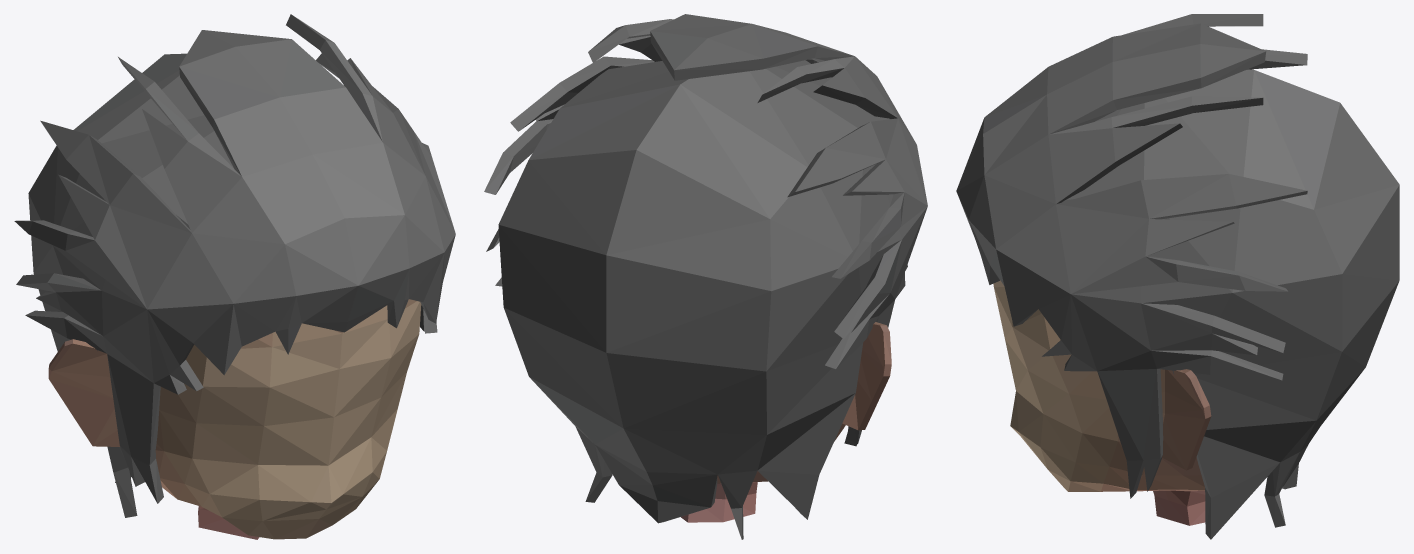
File: helm_lightskin_spike_gray.fbx
The picture shows the model from 3 angles, left to right: view 1: azimuth 30°, elevation 25°; view 2: azimuth 150°, elevation 25°; view 3: azimuth 270°, elevation 25°; orthographic projection.
Parts seen in each view (by area): view 1: helm_lightskin_spike_gray; view 2: helm_lightskin_spike_gray; view 3: helm_lightskin_spike_gray.
Part boxes in pixels (box(x1,y1,x2,y2)): helm_lightskin_spike_gray: box(14, 14, 455, 539); helm_lightskin_spike_gray: box(484, 14, 927, 539); helm_lightskin_spike_gray: box(956, 14, 1399, 539).
Size of the model in its own units: 1.13 by 1.39 by 1.18.
